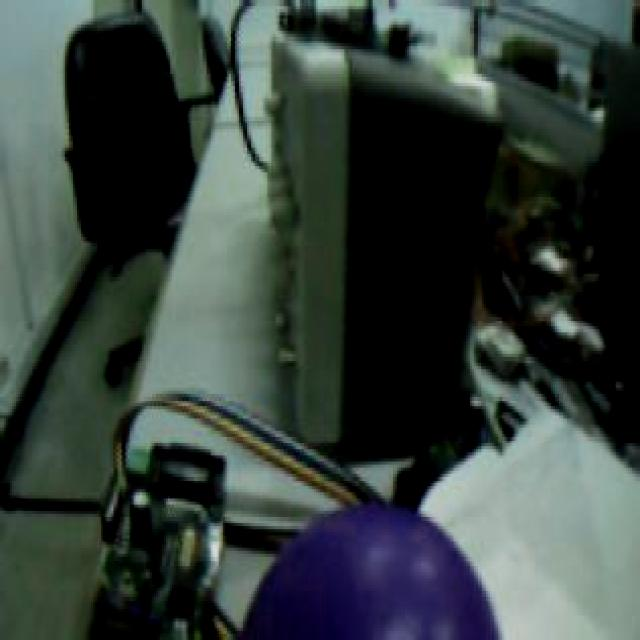BallPurple: (242, 502, 501, 640)
